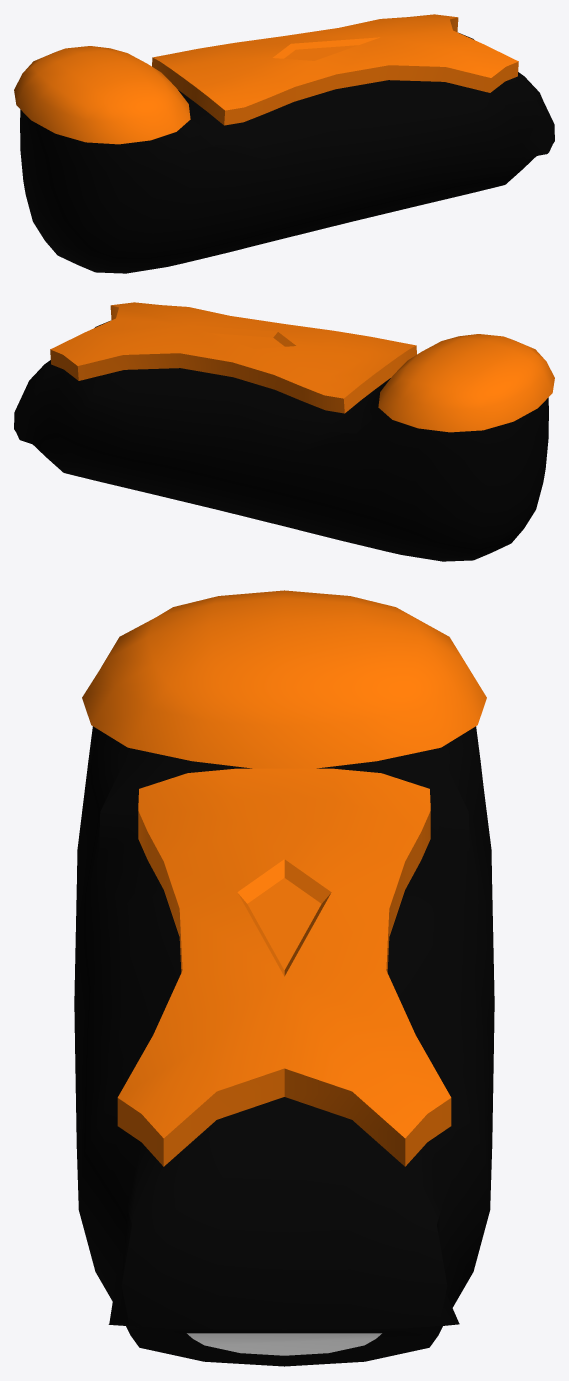
The model's file is new_simHand_id23.fbx.
3 renders of one model, top to bottom at view 1: azimuth 30°, elevation 25°; view 2: azimuth 150°, elevation 25°; view 3: azimuth 270°, elevation 25°, orthographic. The views are drawn at different scales.
Visible parts, largest first — view 1: Cube.007; view 2: Cube.007; view 3: Cube.007.
Boxes of the visible parts, bbox=[...] form: Cube.007: bbox=[14, 14, 554, 273]; Cube.007: bbox=[14, 302, 554, 561]; Cube.007: bbox=[74, 590, 494, 1366].
Size of the model in its own units: 118 by 46.88 by 43.58.
